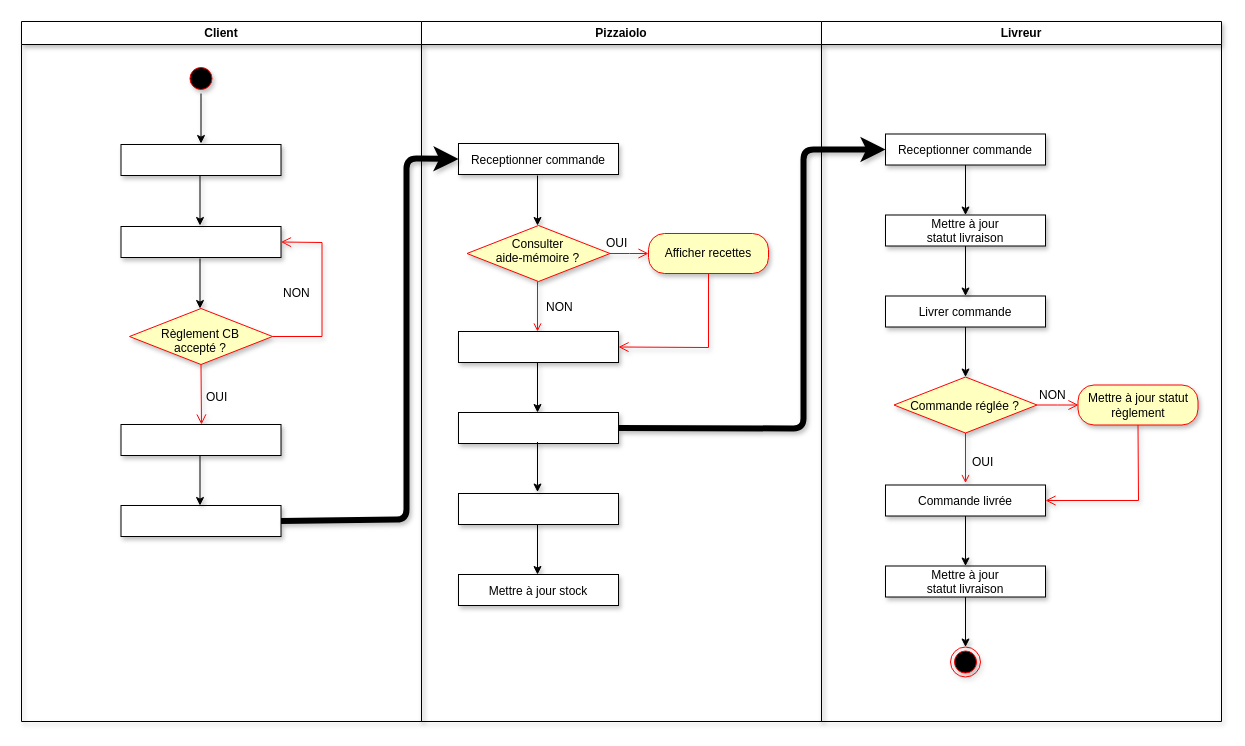
Some shapes in this 1245 by 746 pixel diagram are drawn without their labels. The shapes that lost their labels are listed below. From the top down, each one's centre as x and y in pixels, then its label:
point 201,161: Valider commande
point 201,243: Choisir mode de règlement
point 539,348: Préparer commande
point 201,441: Choisir mode de livraison
point 539,429: Commande terminée
point 201,522: Commande enregistrée
point 539,510: Mettre à jour statut commande
